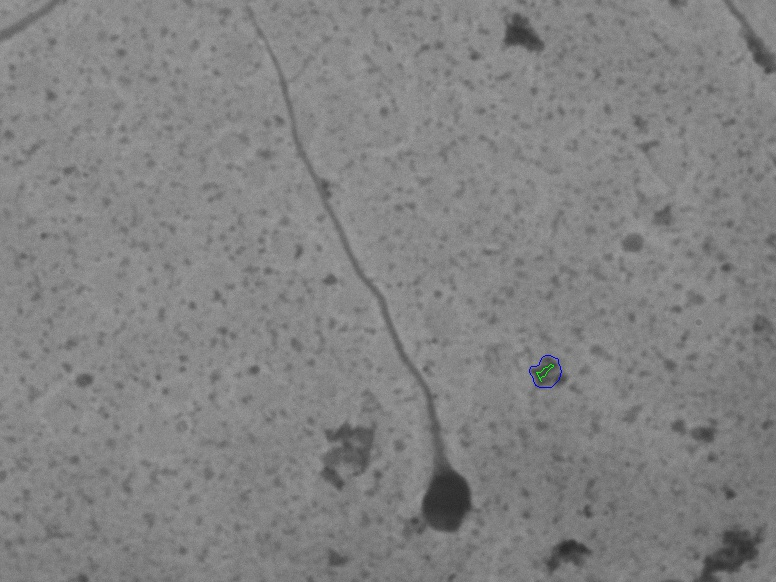Abnormal: (230, 25, 483, 553)
